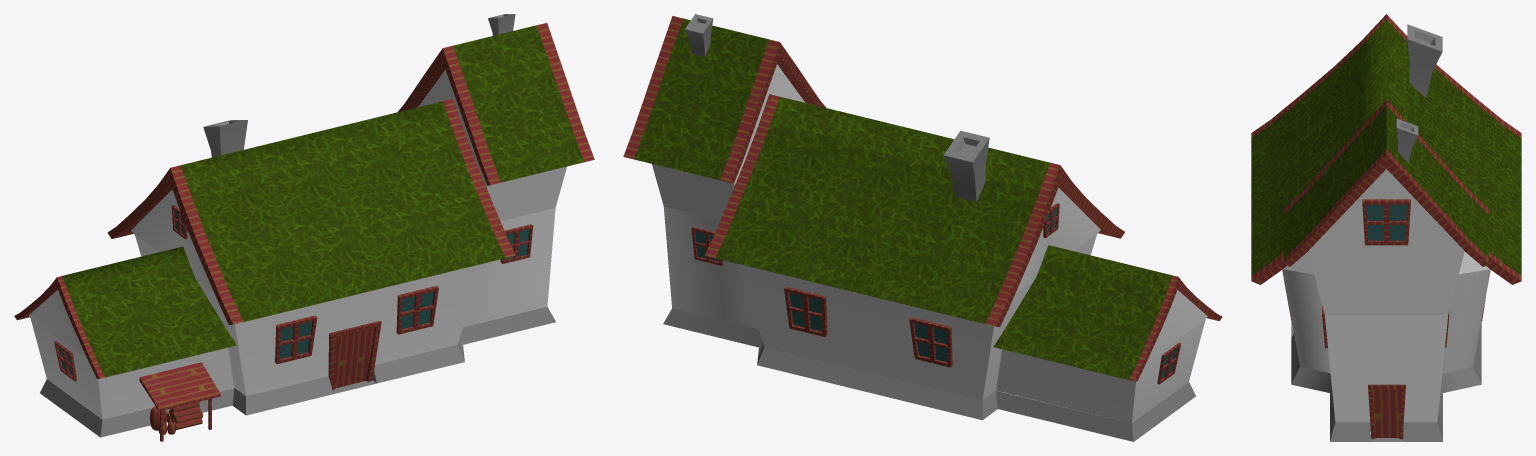
The model's file is a3d_villagehouse_big.fbx.
3 views of the same model, side by side, from view 1: azimuth 30°, elevation 25°; view 2: azimuth 150°, elevation 25°; view 3: azimuth 270°, elevation 25° (orthographic). The views are drawn at different scales.
Parts seen in each view (by area): view 1: villagehouse_big_LOD0; view 2: villagehouse_big_LOD0; view 3: villagehouse_big_LOD0.
Part boxes in pixels (x1,y1,x2,y2): villagehouse_big_LOD0: [14, 14, 594, 441]; villagehouse_big_LOD0: [623, 14, 1222, 441]; villagehouse_big_LOD0: [1251, 14, 1521, 441].
Size of what is drawn, in the model's own units: 36.28 by 20.52 by 16.11.
